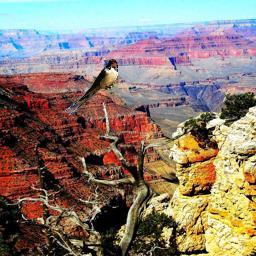Swallow: (65, 59, 118, 115)
